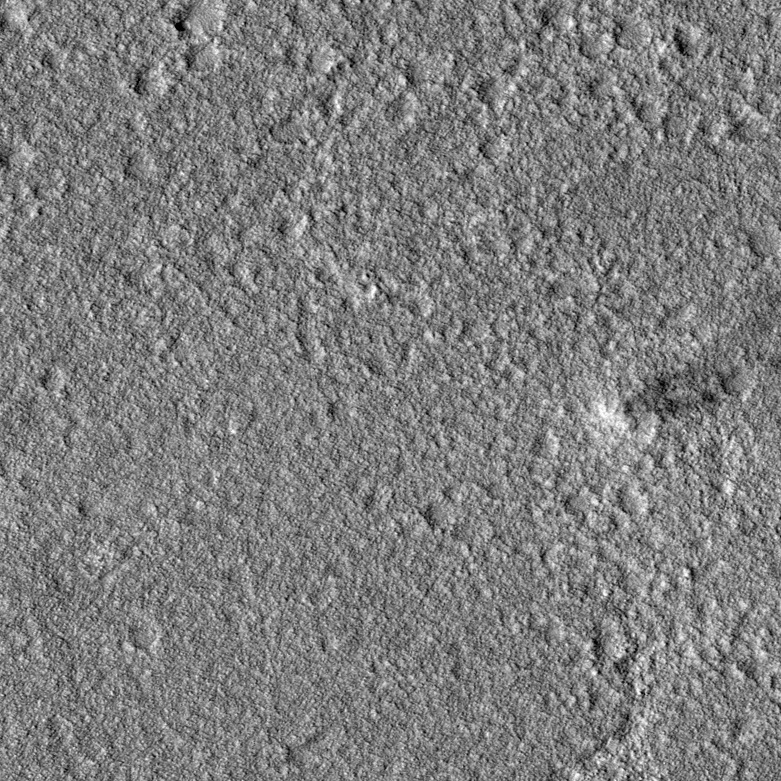dust_devil: (594, 296, 781, 442)
